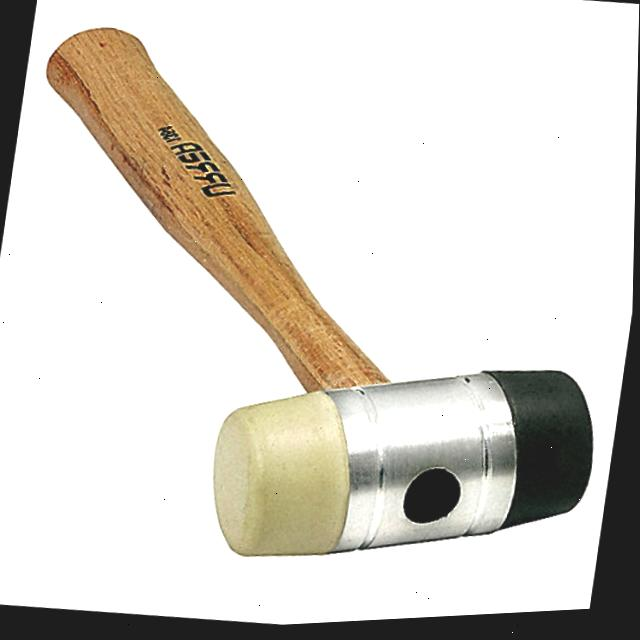hammer: (0, 0, 640, 616)
